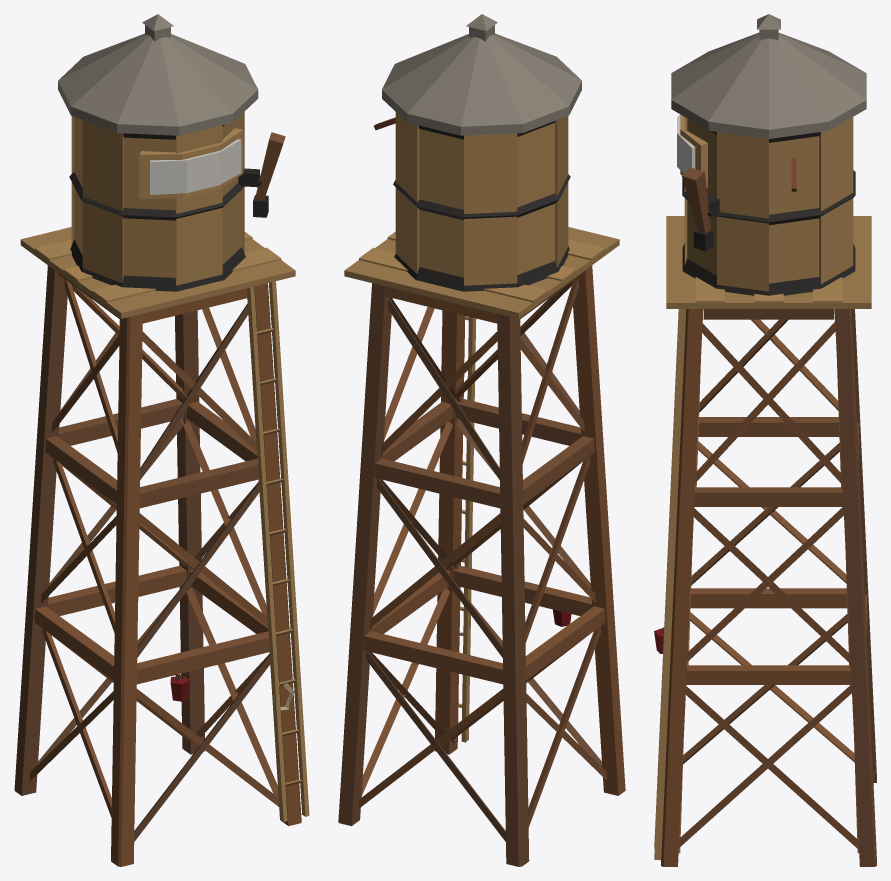
The model's file is water-tower-on-a-dbc730.glb.
3 views of the same model, side by side, from view 1: azimuth 30°, elevation 25°; view 2: azimuth 150°, elevation 25°; view 3: azimuth 270°, elevation 25° (orthographic).
Visible parts, largest first — view 1: water-tower, spout-mesh; view 2: water-tower; view 3: water-tower, spout-mesh.
Boxes of the visible parts, x1=… form: water-tower: x1=14, y1=14, x2=309, y2=866; spout-mesh: x1=253, y1=132, x2=285, y2=217; water-tower: x1=338, y1=14, x2=625, y2=866; water-tower: x1=654, y1=14, x2=876, y2=866; spout-mesh: x1=682, y1=167, x2=713, y2=251.
Size of the model in its own units: 2.83 by 11.46 by 2.87.
